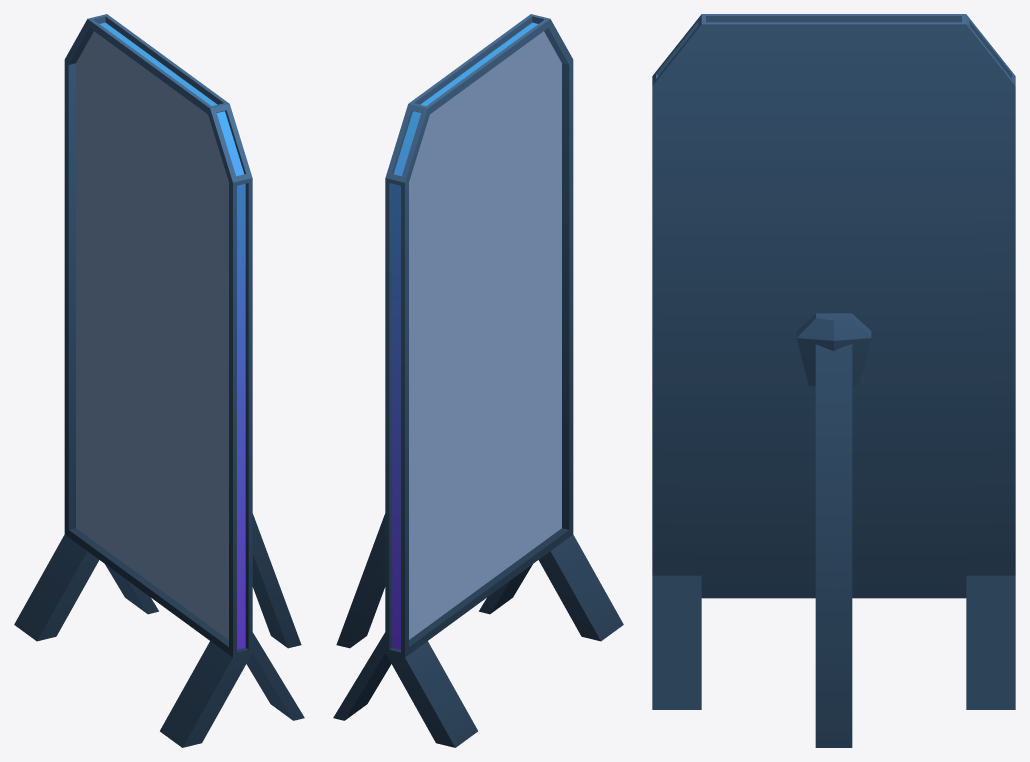
The model's file is mirror.fbx.
3 renders of one model, left to right at view 1: azimuth 30°, elevation 25°; view 2: azimuth 150°, elevation 25°; view 3: azimuth 270°, elevation 25°, orthographic. The views are drawn at different scales.
Visible parts, largest first — view 1: Cube; view 2: Cube; view 3: Cube.
Part boxes in pixels (box(x1,y1,x2,y2)): Cube: box(14, 14, 304, 747); Cube: box(333, 14, 623, 747); Cube: box(652, 14, 1015, 747).
Size of the model in its own units: 134 by 400 by 200.
Materials: 2 (1 with a texture image).
